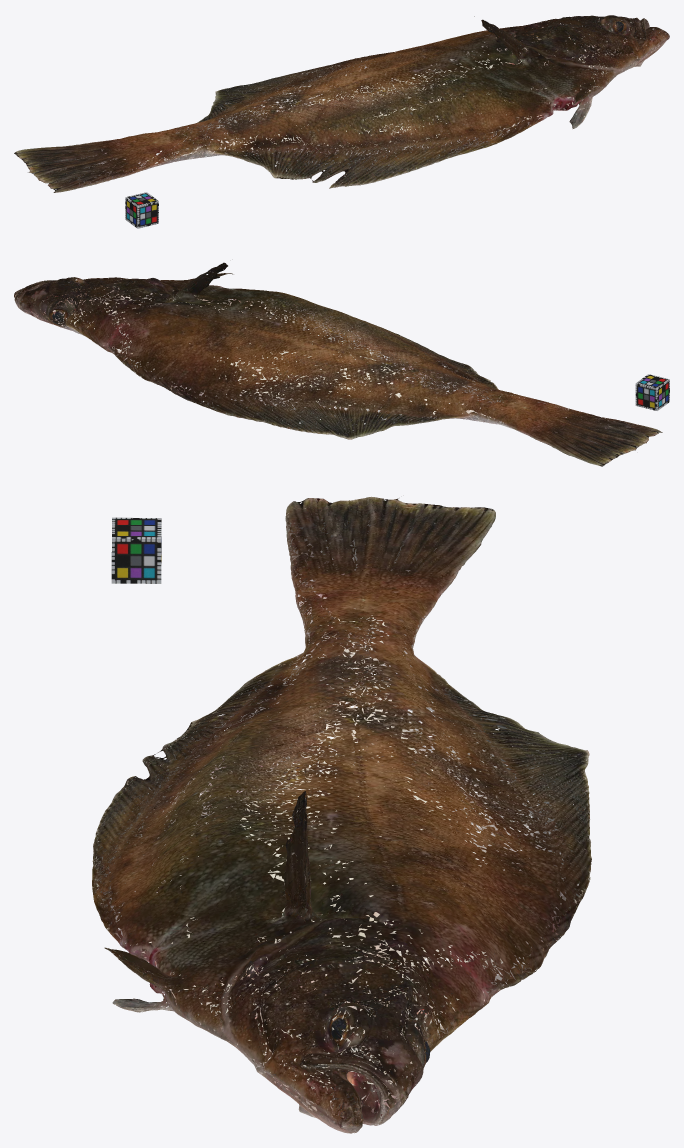
File: scan_sohachi.glb
3 views of the same model, one above another, from view 1: azimuth 30°, elevation 25°; view 2: azimuth 150°, elevation 25°; view 3: azimuth 270°, elevation 25° (orthographic). The views are drawn at different scales.
Visible parts, largest first — view 1: Object_12, Object_6, Object_4; view 2: Object_6, Object_12, Object_4; view 3: Object_6, Object_12, Object_4.
Boxes of the visible parts, x1,y1,x2,y2 form: Object_12: [14, 15, 669, 192]; Object_6: [14, 15, 669, 190]; Object_4: [125, 192, 158, 228]; Object_6: [14, 263, 653, 466]; Object_12: [14, 262, 662, 466]; Object_4: [635, 374, 669, 410]; Object_6: [92, 503, 591, 1133]; Object_12: [92, 496, 591, 1133]; Object_4: [111, 517, 161, 583].
Size of the model in its own units: 17.49 by 3.16 by 6.
3 materials, 3 textured.
